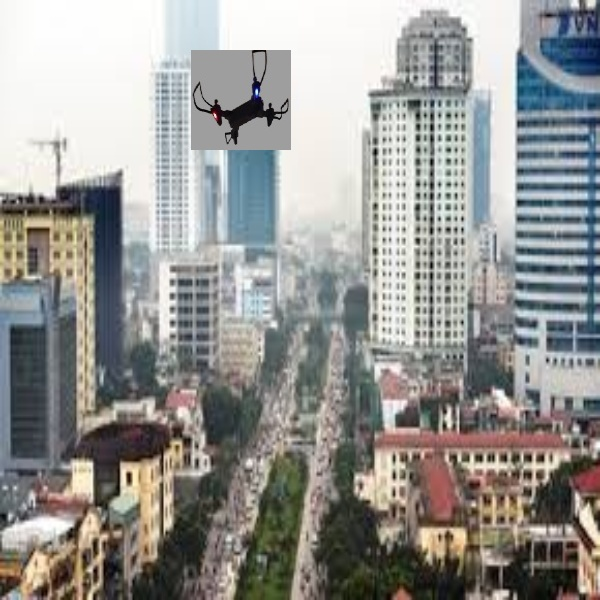drone: (191, 49, 289, 148)
